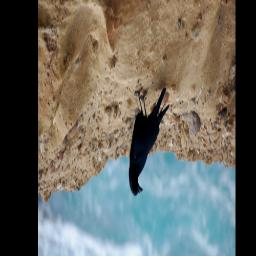Crow: (128, 83, 169, 201)
